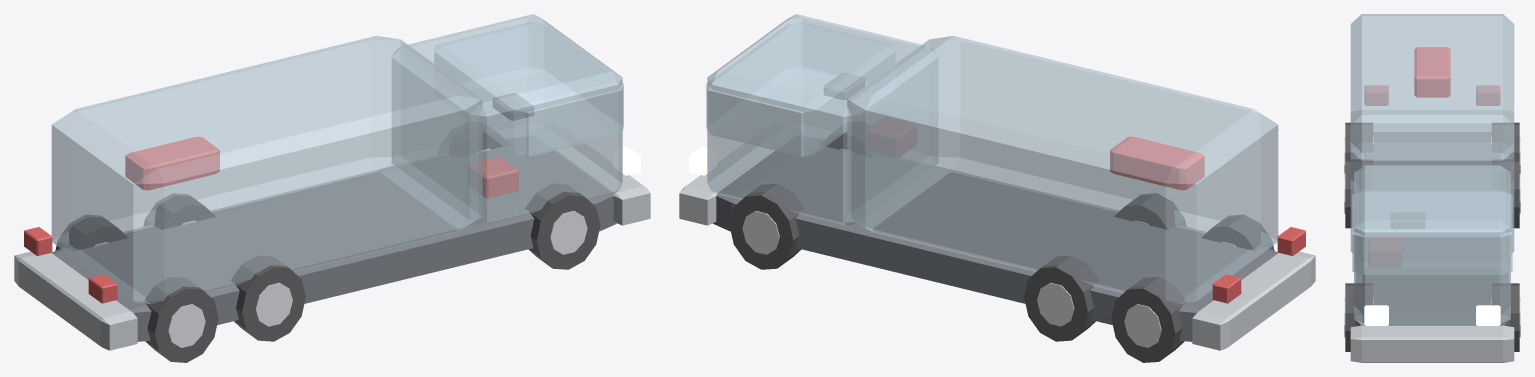
The model's file is b15_glass_transport_truck.glb.
3 renders of one model, left to right at view 1: azimuth 30°, elevation 25°; view 2: azimuth 150°, elevation 25°; view 3: azimuth 270°, elevation 25°, orthographic. The views are drawn at different scales.
Visible parts, largest first — view 1: b15_glass_transport_truck; view 2: b15_glass_transport_truck; view 3: b15_glass_transport_truck.
Part boxes in pixels (box(x1,y1,x2,y2)): b15_glass_transport_truck: box(14, 14, 650, 362); b15_glass_transport_truck: box(679, 14, 1315, 362); b15_glass_transport_truck: box(1344, 14, 1520, 362).
Size of the model in its own units: 8.88 by 2.98 by 2.88.
